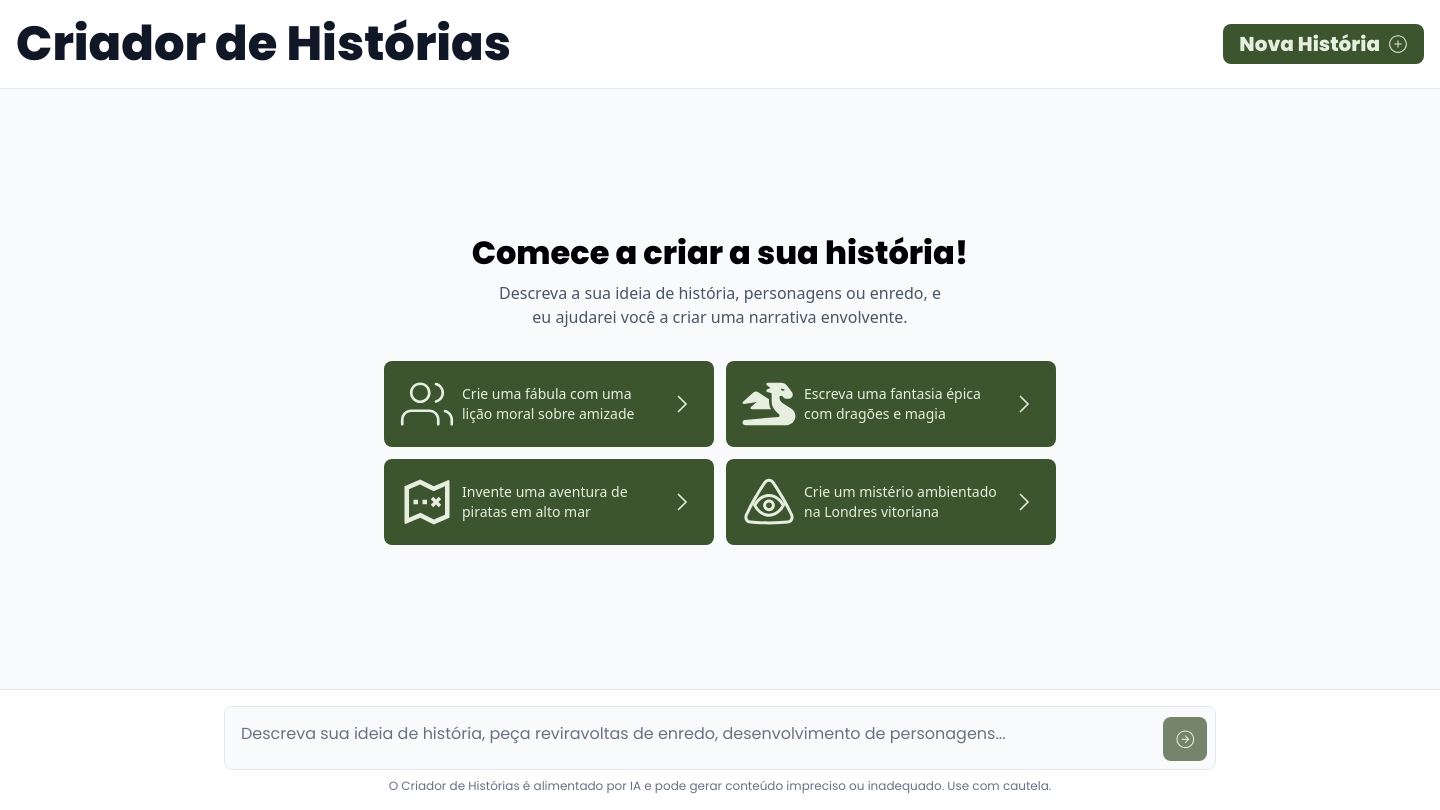
Scenario: CreateStory › deve exibir opções após receber resposta
Type "Teste" into the text box with placeholder "Descreva sua ideia de história".
click(694, 735); type("Teste")  # box [233,715,1155,755]
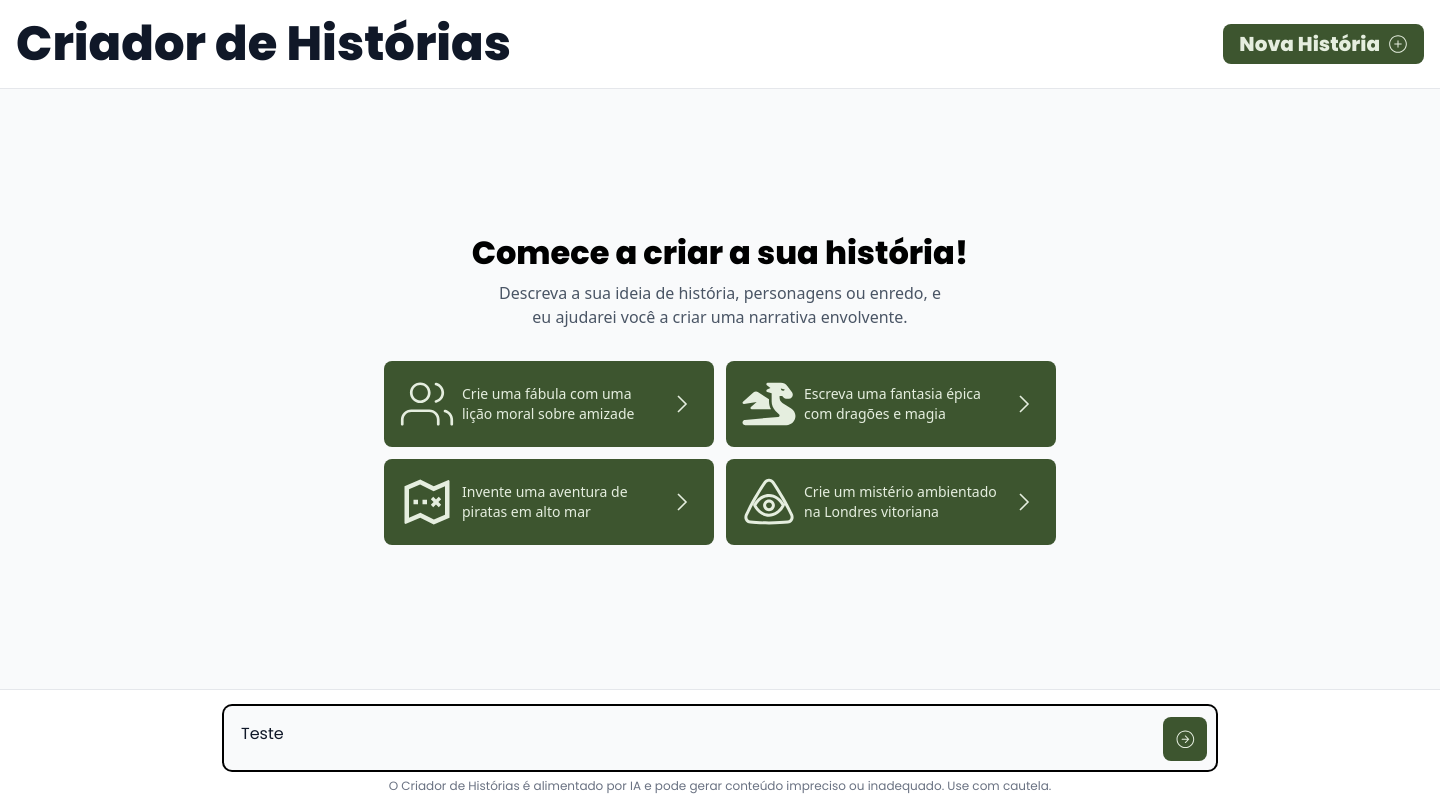
Click the button named "enviar mensagem".
click(1185, 739)  # box [1163,717,1207,761]
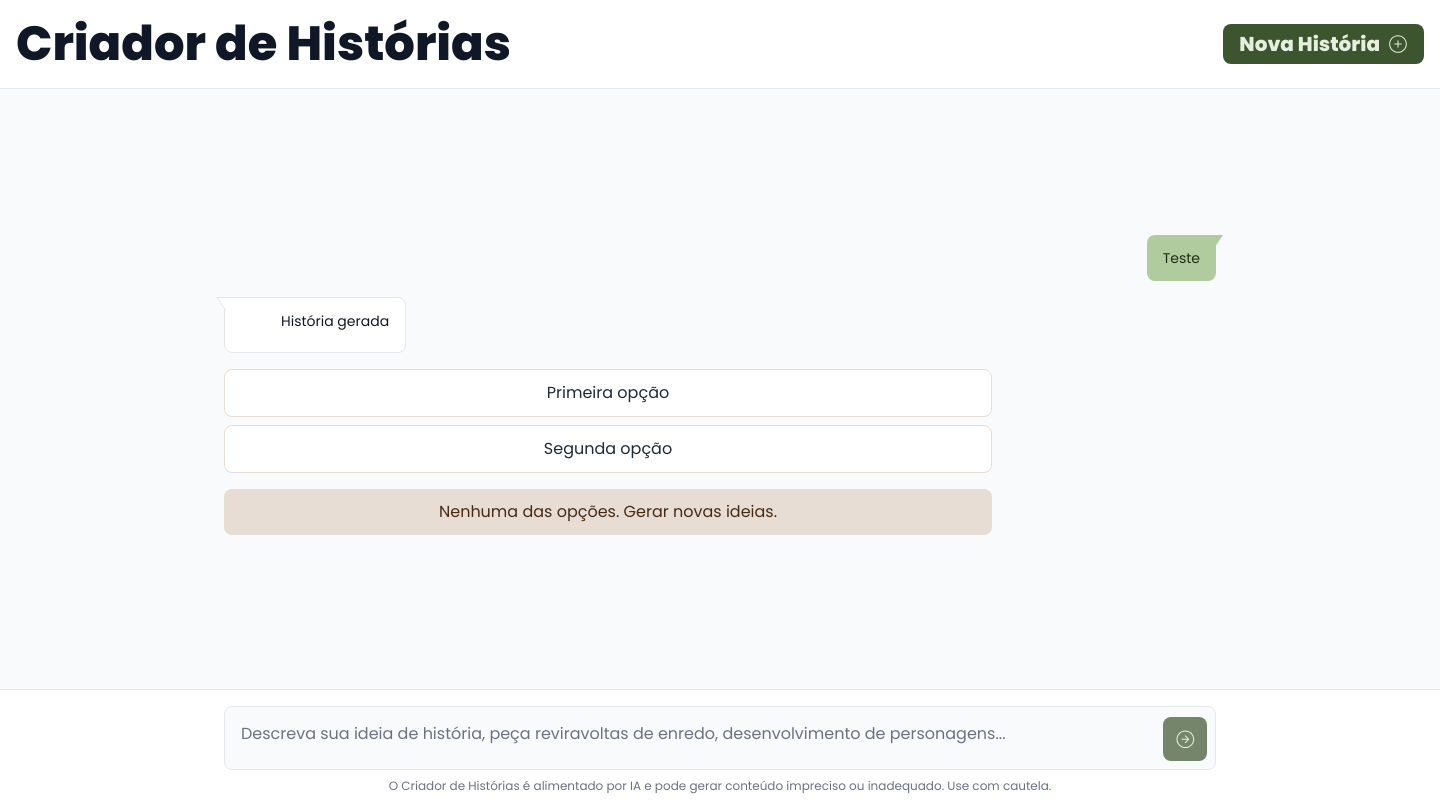
Check: the text "História gerada" is shown, box [281,310,389,333]
Check: the button "Primeira opção" is shown, box [224,369,992,417]
Check: the button "Segunda opção" is shown, box [224,425,992,473]
